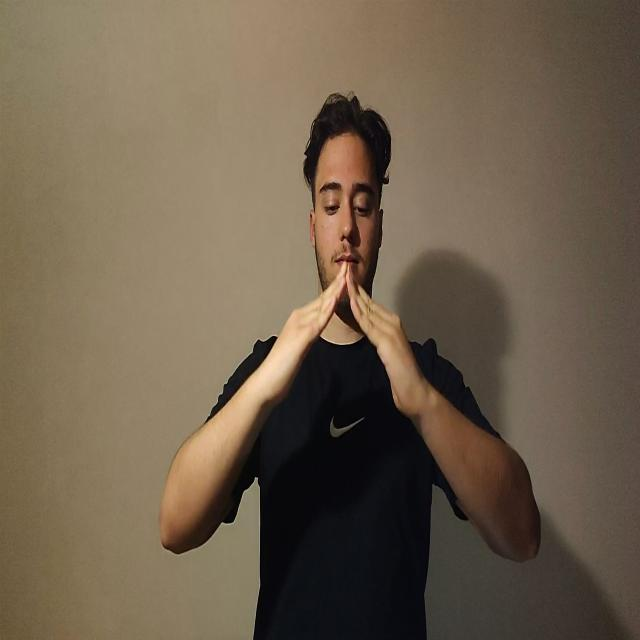house: (268, 262, 424, 420)
